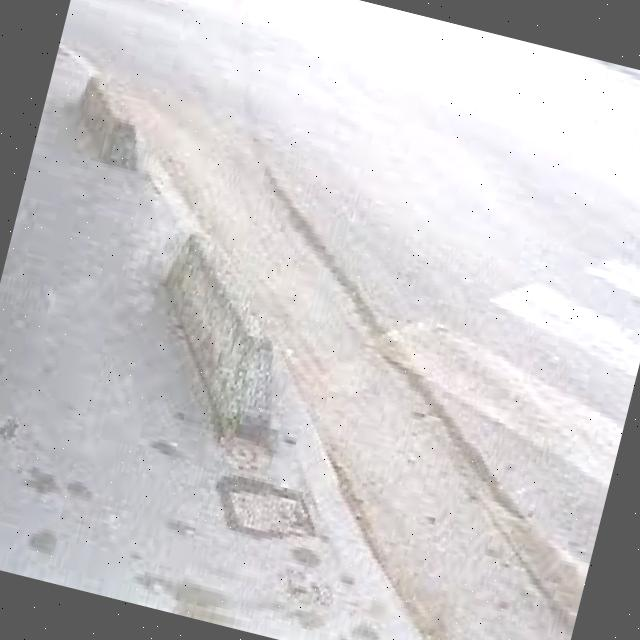curb: (167, 225, 278, 438), (76, 74, 139, 172)
